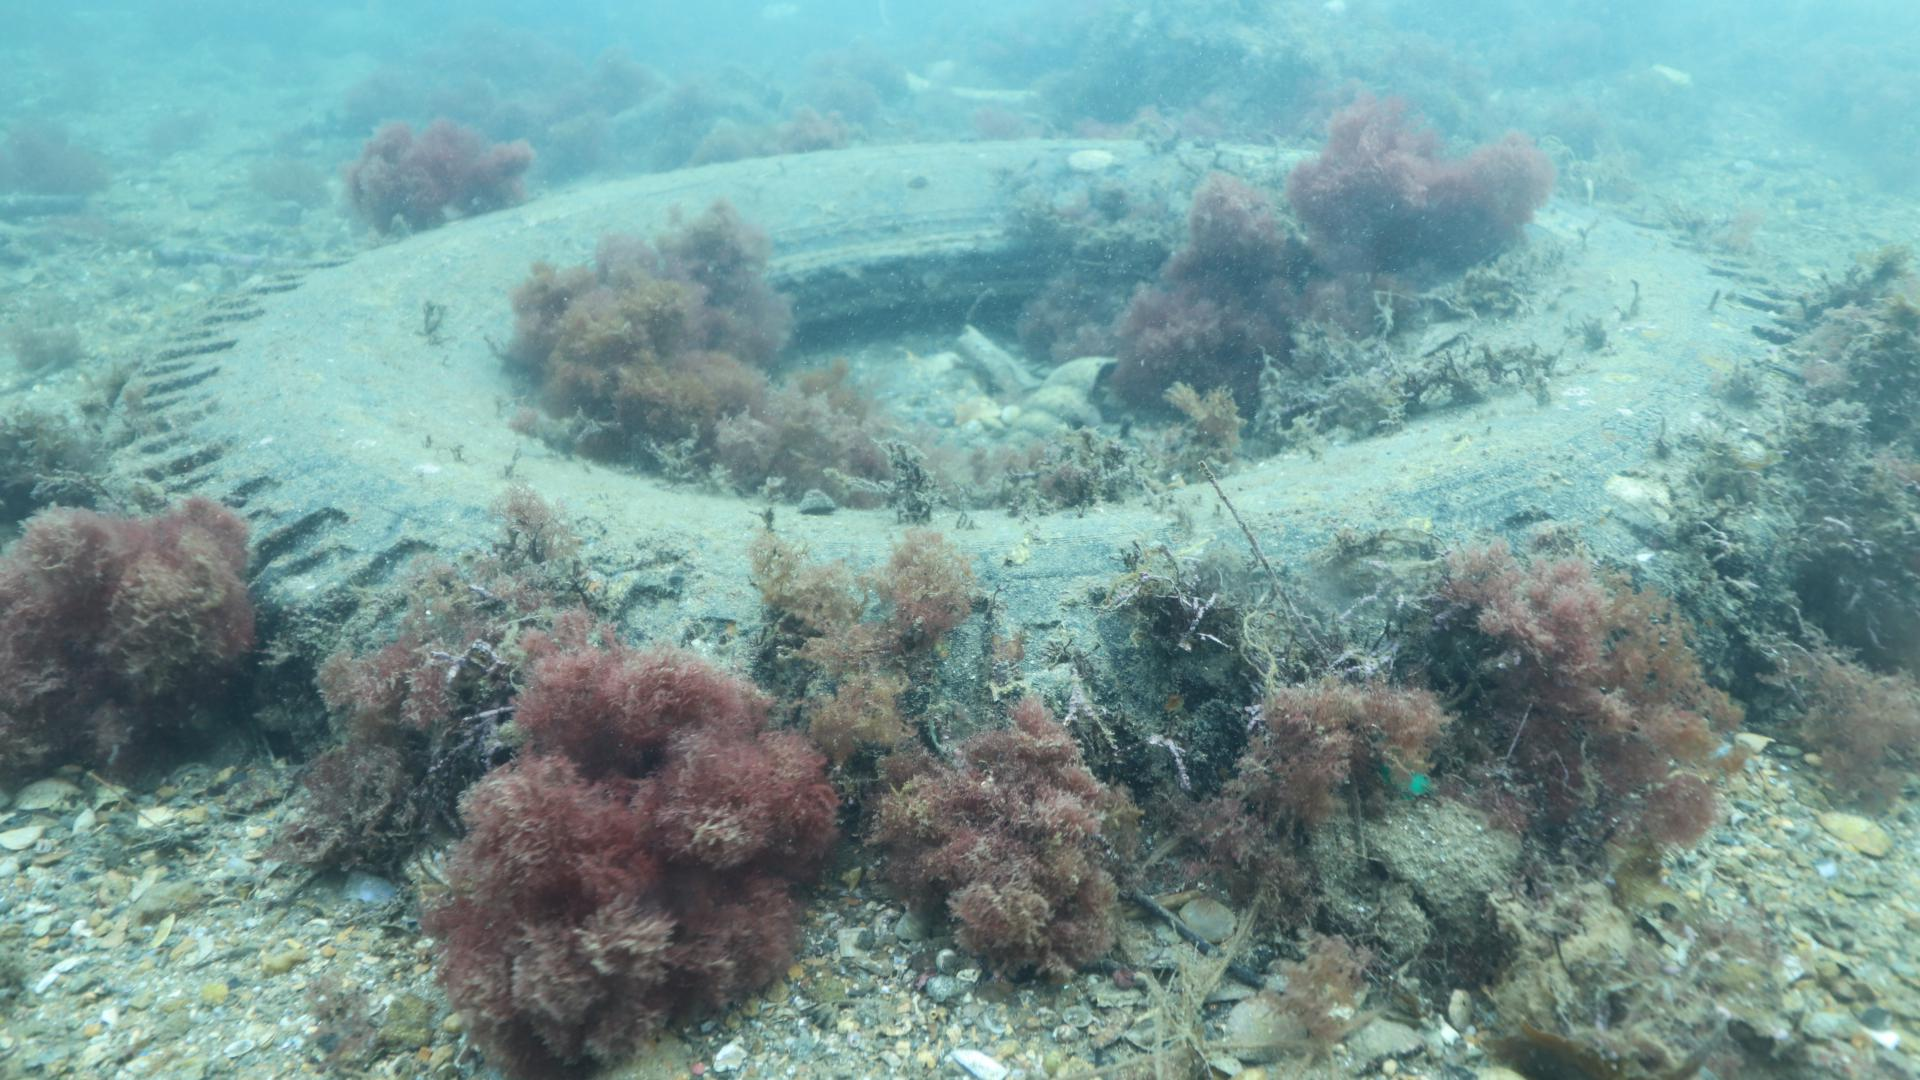tire: (116, 136, 1812, 778)
